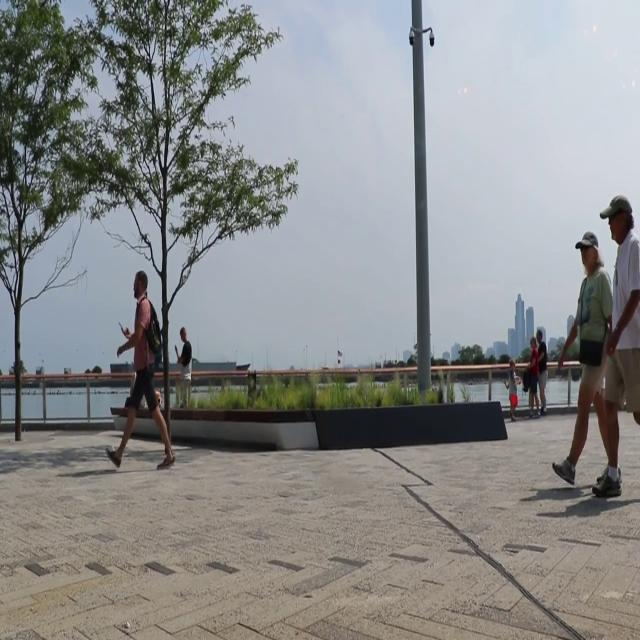normal: (550, 232, 626, 479), (106, 267, 182, 477), (594, 197, 640, 504)
